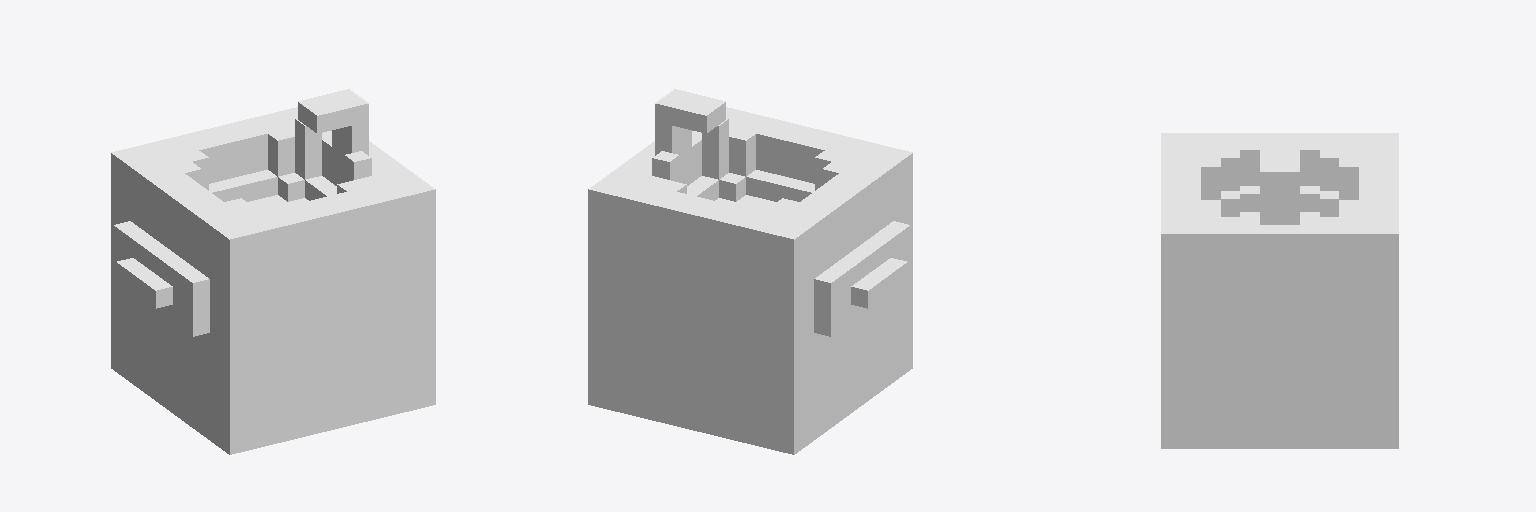
Rendered from classic:sink-bathroom.obj.
3 views of the same model, side by side, from view 1: azimuth 30°, elevation 25°; view 2: azimuth 150°, elevation 25°; view 3: azimuth 270°, elevation 25° (orthographic).
Visible parts, largest first — view 1: classic:sink-bathroom; view 2: classic:sink-bathroom; view 3: classic:sink-bathroom.
Boxes of the visible parts, box(x1,y1,x2,y2) form: classic:sink-bathroom: box(111, 89, 435, 454); classic:sink-bathroom: box(588, 89, 912, 454); classic:sink-bathroom: box(1161, 133, 1398, 448).
Size of the model in its own units: 14 by 15 by 12.